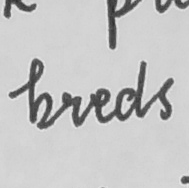b: (27, 56, 55, 132)
d: (112, 57, 148, 123)
e: (88, 85, 112, 126)
r: (58, 89, 85, 129)
s: (153, 74, 177, 122)
